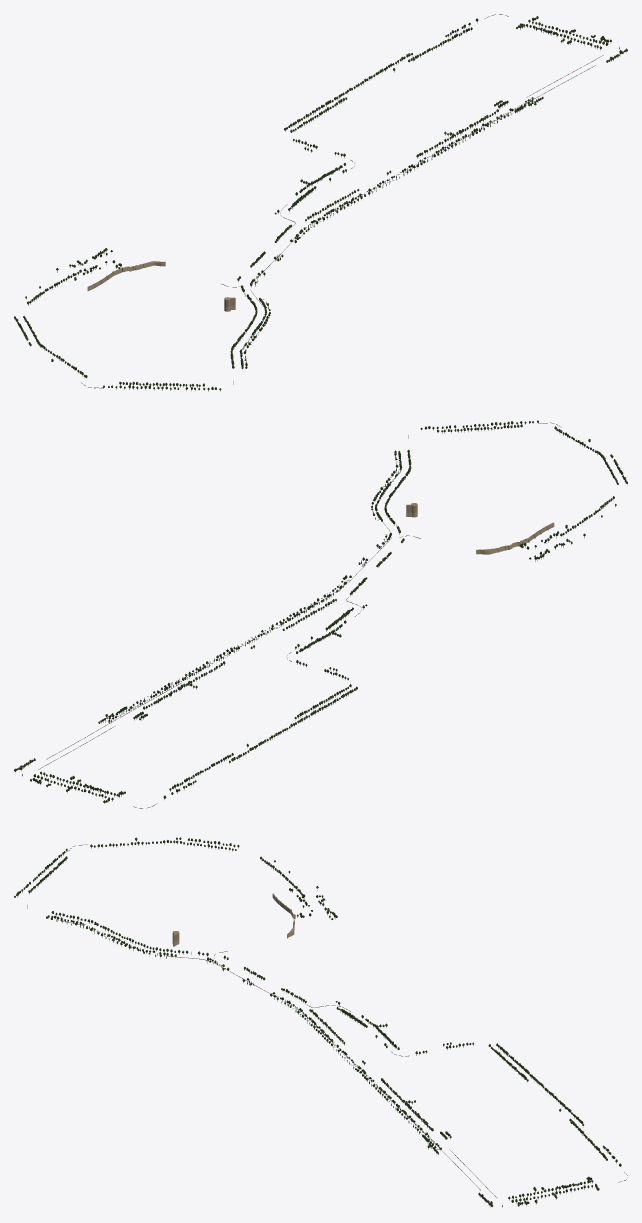
File: trackside.glb
3 renders of one model, top to bottom at view 1: azimuth 30°, elevation 25°; view 2: azimuth 210°, elevation 25°; view 3: azimuth 270°, elevation 25°, orthographic. The views are drawn at different scales.
Parts seen in each view (by area): view 1: chunk_-2_0, chunk_0_-1, chunk_-1_0, chunk_-4_2, chunk_-4_0, chunk_-3_1; view 2: chunk_-2_0, chunk_-1_0, chunk_0_-1, chunk_-4_2, chunk_-4_0, chunk_-3_1; view 3: chunk_-2_0, chunk_0_-1, chunk_-1_0, chunk_-3_1, chunk_-4_2.
Part boxes in pixels (x1,y1,x2,y2): chunk_-2_0: (295, 145, 428, 221); chunk_0_-1: (450, 16, 627, 95); chunk_-1_0: (421, 97, 537, 159); chunk_-4_2: (162, 321, 266, 391); chunk_-4_0: (39, 248, 165, 288); chunk_-3_1: (221, 232, 304, 322); chunk_-2_0: (213, 598, 346, 671); chunk_-1_0: (104, 661, 220, 723); chunk_0_-1: (14, 727, 191, 803); chunk_-4_2: (375, 425, 479, 498); chunk_-4_0: (476, 515, 602, 561); chunk_-3_1: (337, 497, 420, 587); chunk_-2_0: (300, 1012, 448, 1083); chunk_0_-1: (447, 1147, 609, 1207); chunk_-1_0: (371, 1082, 448, 1151); chunk_-3_1: (128, 945, 287, 1005); chunk_-4_2: (14, 874, 126, 946).
Bounding box in the file's own units: 2114 × 41.36 × 1530.
